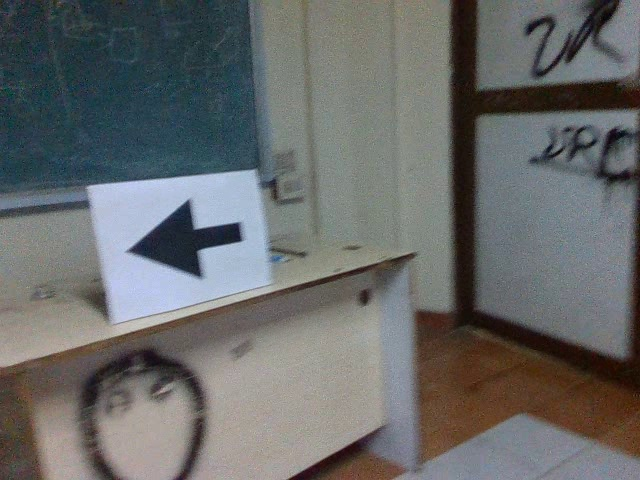Left: (123, 193, 246, 283)
